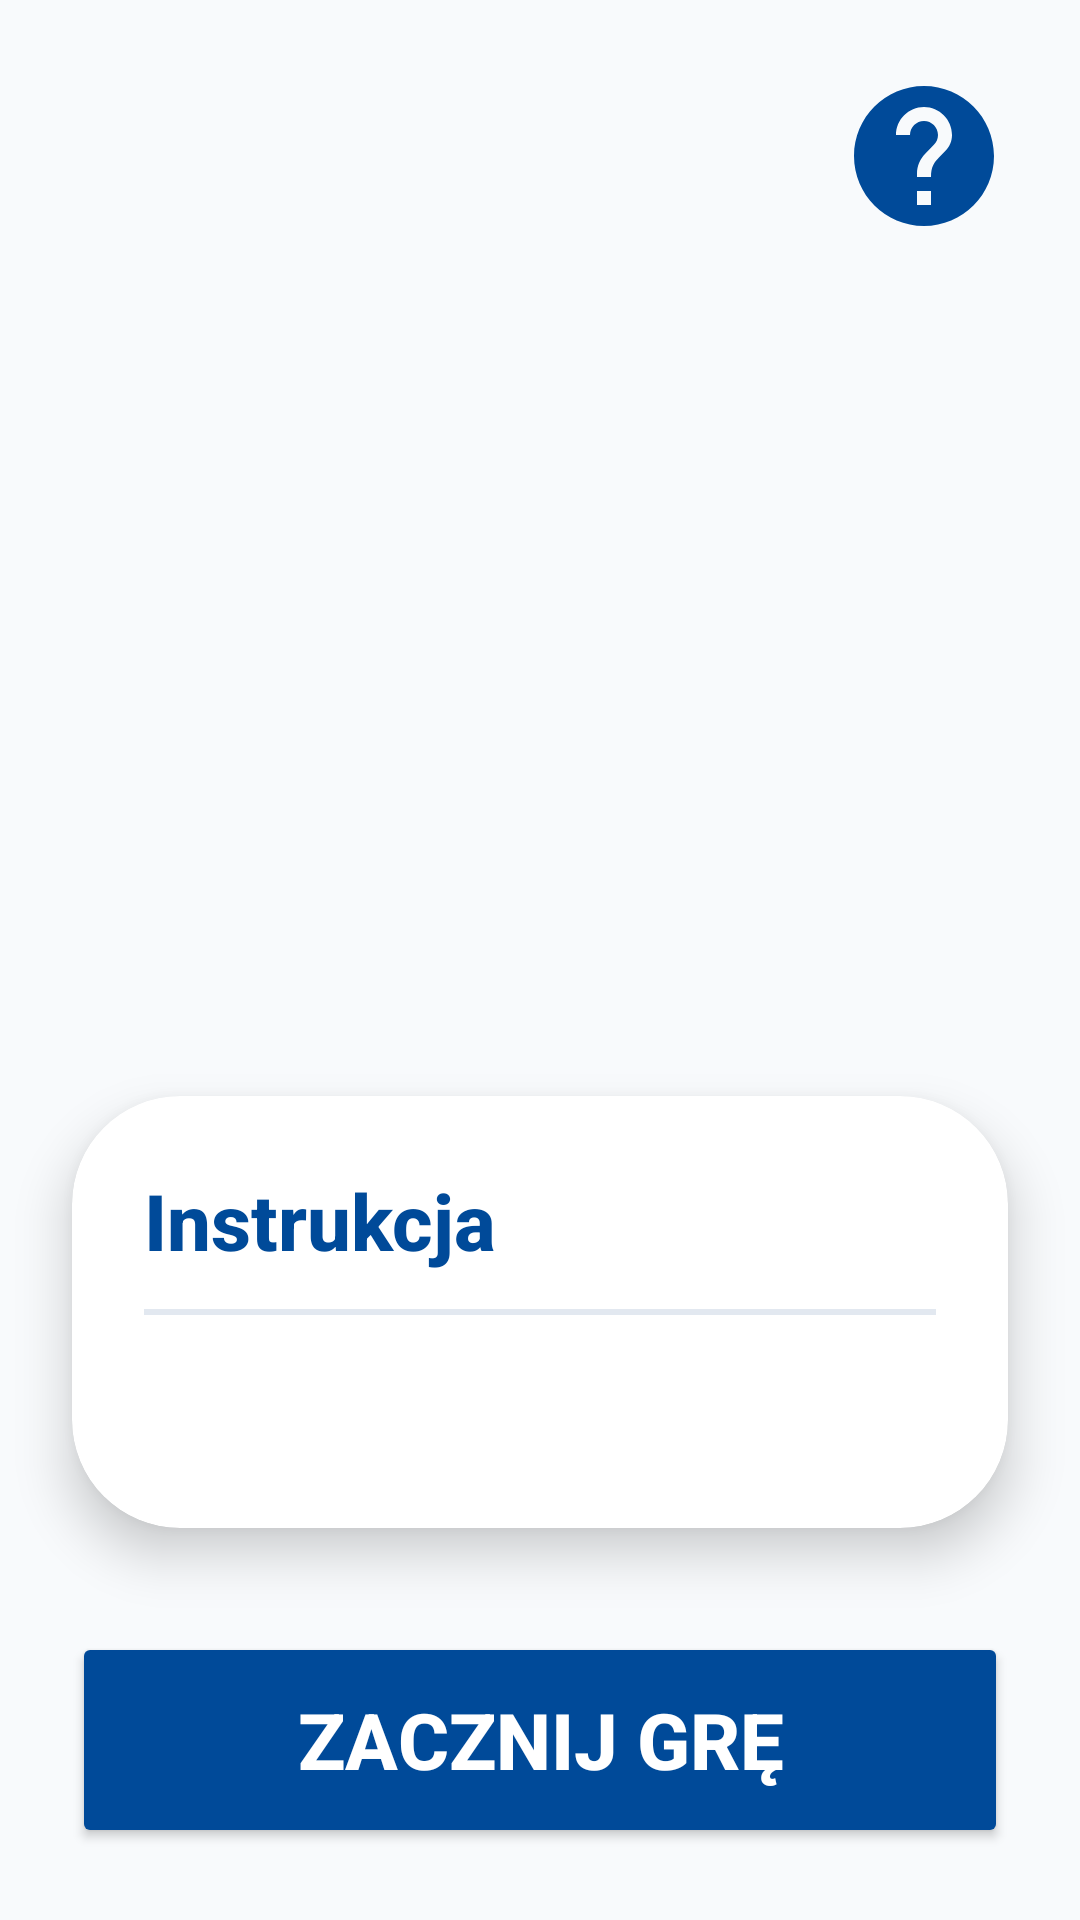

Icons on this 1080 × 1920 Android screen, each with the point to tap as [x,y]:
Przycisk pomocy: [924,156]
